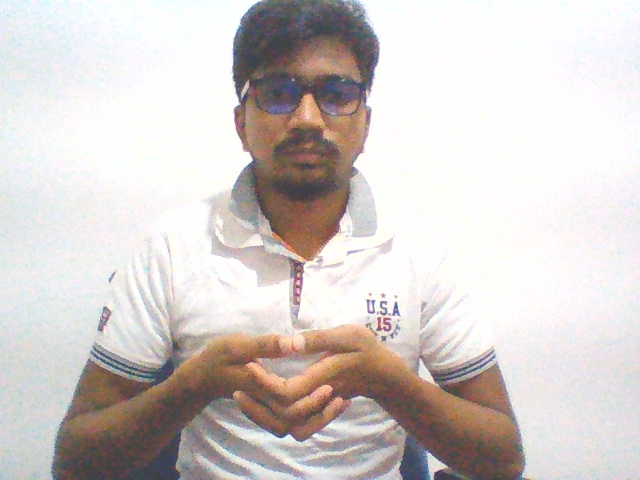mangosteen: (172, 315, 401, 447)
